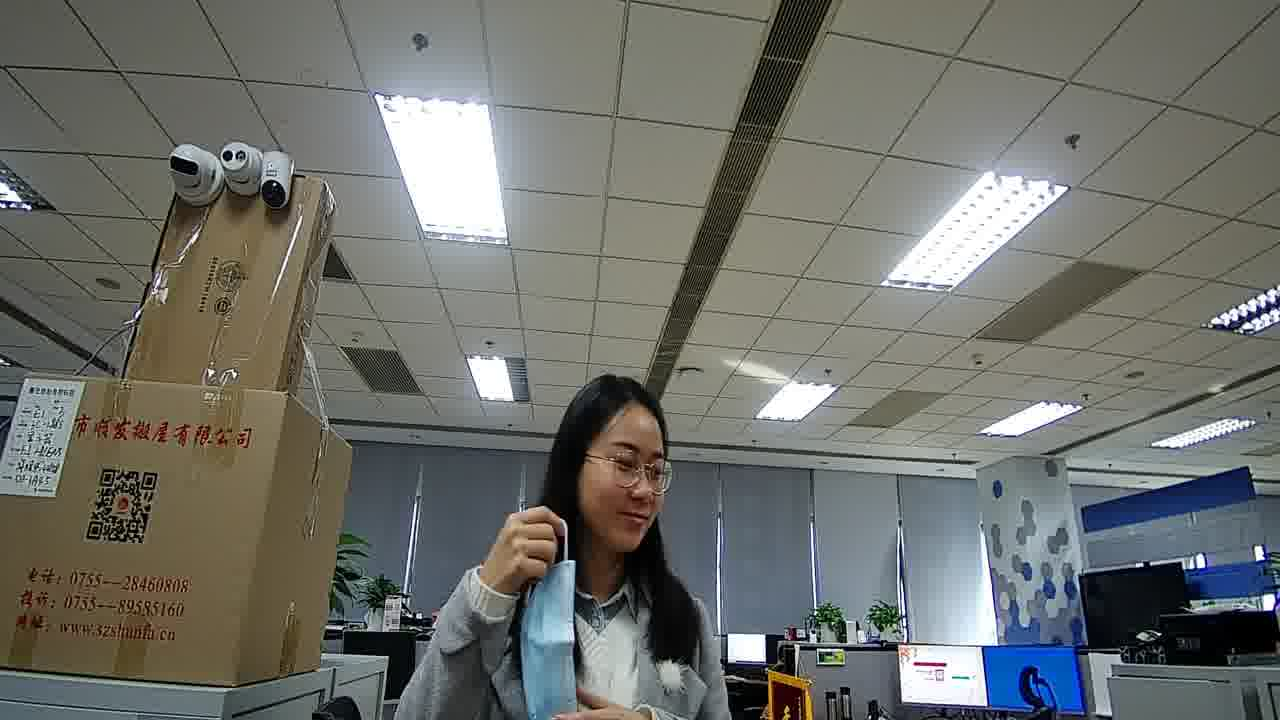face: (574, 415, 671, 557)
person: (489, 369, 716, 665)
